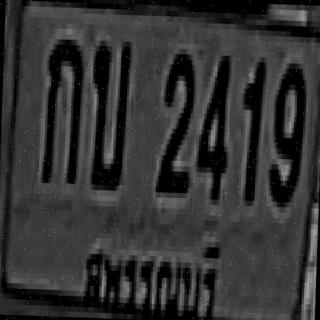A01: (41, 33, 82, 178)
A26: (88, 35, 130, 186)
N01: (238, 56, 264, 201)
N02: (156, 48, 193, 188)
N04: (194, 49, 230, 200)
N09: (267, 57, 304, 202)
P66: (76, 225, 227, 320)
